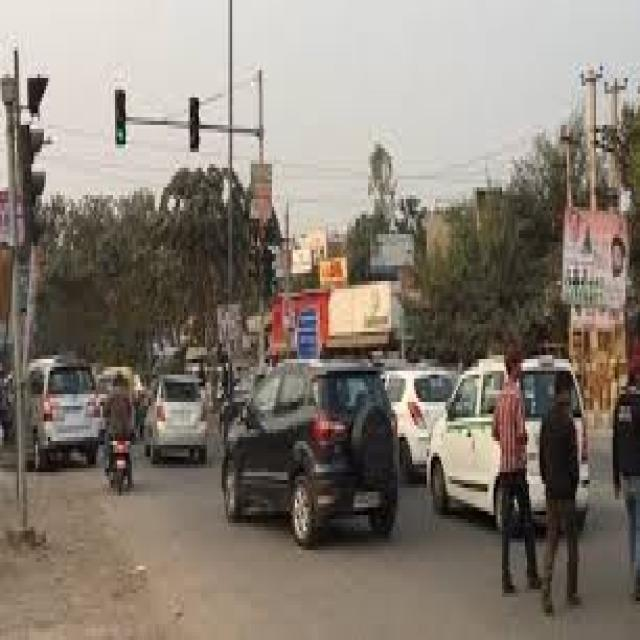car ahead at: (222, 348, 404, 550)
motorcycle ahead at: (100, 365, 138, 492)
person ahead at: (490, 354, 540, 599)
traffic signal ahead at: (11, 116, 53, 256), (108, 86, 134, 162)
